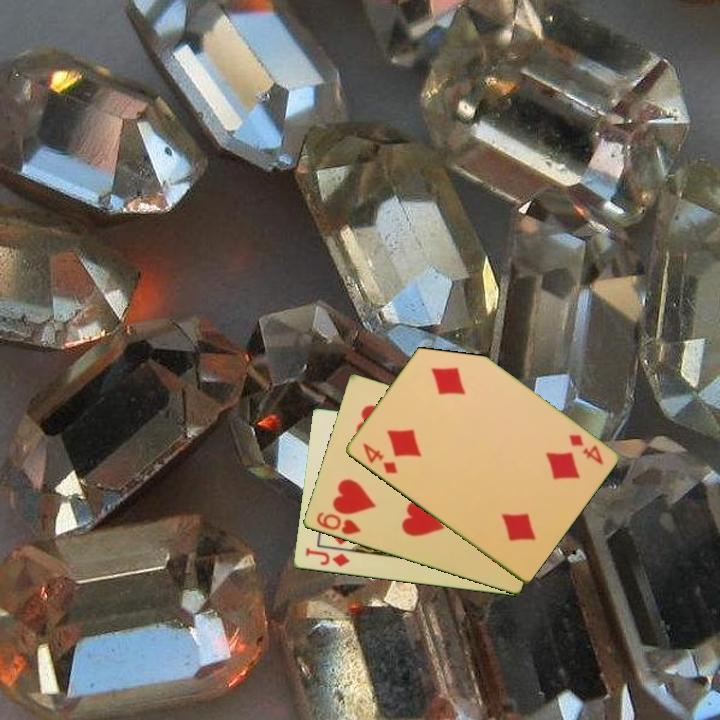4d: (358, 439, 400, 477), (565, 431, 606, 468)
6h: (313, 508, 364, 538)
Jd: (302, 544, 352, 570)
